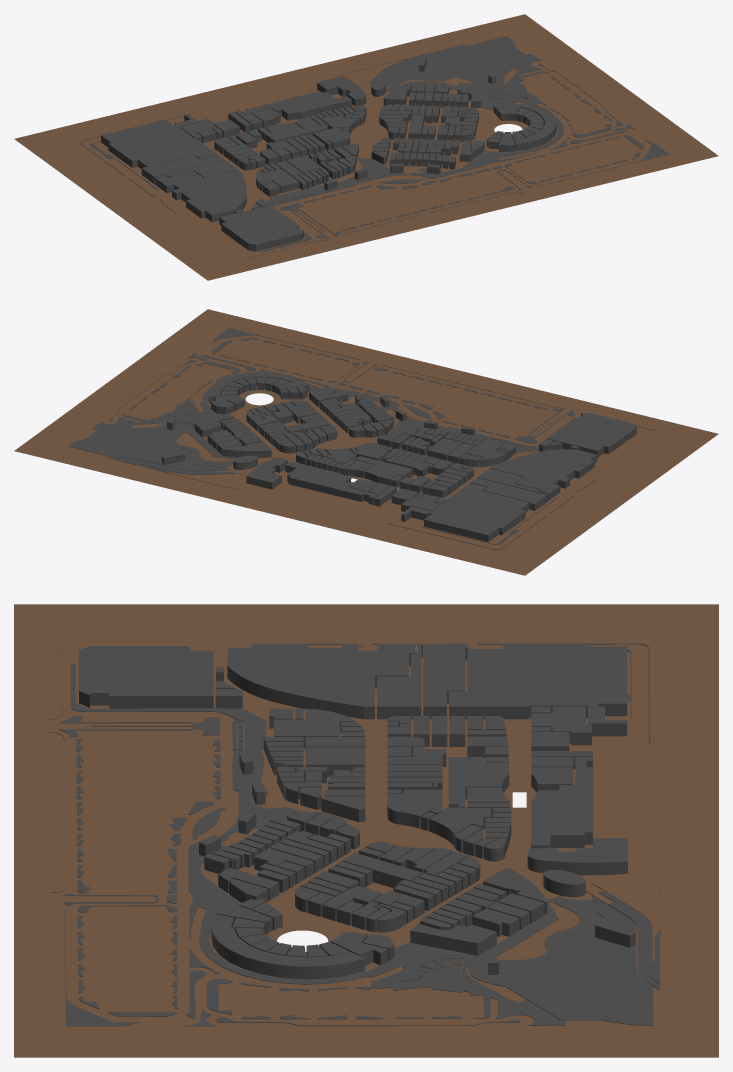
3 views of the same model, one above another, from view 1: azimuth 30°, elevation 25°; view 2: azimuth 150°, elevation 25°; view 3: azimuth 270°, elevation 25° (orthographic). The views are drawn at different scales.
Parts seen in each view (by area): view 1: Rectangle001, Layer:AREA (×2), Object003, Layer:GRANITE PAVING MOD A, Object164, Object167, Object009, Object030, Object166, Object013, Object114, Object156 (+4 smaller); view 2: Rectangle001, Layer:AREA (×2), Object003, Object164, Layer:GRANITE PAVING MOD A, Object167, Object009, Object166, Object013, Object114, Object030, Object156 (+5 smaller); view 3: Rectangle001, Layer:AREA (×2), Object003, Layer:GRANITE PAVING MOD A, Object164, Object167, Object009, Object030, Object013, Object166, Object114, Object165 (+19 smaller).
Part boxes in pixels (left/top/right/bottom): Rectangle001: left=14, top=14, right=718, bottom=280; Layer:AREA (×2): left=80, top=36, right=668, bottom=258; Object003: left=101, top=114, right=217, bottom=168; Layer:GRANITE PAVING MOD A: left=259, top=72, right=536, bottom=252; Object164: left=156, top=169, right=246, bottom=222; Object167: left=219, top=205, right=303, bottom=251; Object009: left=235, top=91, right=351, bottom=120; Object030: left=514, top=102, right=556, bottom=151; Object166: left=141, top=155, right=224, bottom=183; Object013: left=317, top=76, right=366, bottom=105; Object114: left=264, top=122, right=328, bottom=142; Object156: left=256, top=168, right=299, bottom=193; Rectangle001: left=14, top=309, right=718, bottom=575; Layer:AREA (×2): left=68, top=328, right=653, bottom=549; Object003: left=401, top=483, right=529, bottom=542; Object164: left=490, top=449, right=597, bottom=500; Layer:GRANITE PAVING MOD A: left=152, top=378, right=579, bottom=468; Object167: left=546, top=412, right=636, bottom=457; Object009: left=285, top=461, right=377, bottom=504; Object166: left=470, top=478, right=546, bottom=510; Object013: left=246, top=457, right=287, bottom=489; Object114: left=352, top=456, right=412, bottom=485; Object030: left=208, top=371, right=299, bottom=403; Object156: left=467, top=439, right=506, bottom=466; Rectangle001: left=14, top=604, right=718, bottom=1057; Layer:AREA (×2): left=48, top=643, right=661, bottom=1026; Object003: left=449, top=643, right=627, bottom=736; Layer:GRANITE PAVING MOD A: left=71, top=664, right=604, bottom=986; Object164: left=227, top=643, right=415, bottom=719; Object167: left=79, top=646, right=213, bottom=708; Object009: left=530, top=757, right=592, bottom=848; Object030: left=211, top=914, right=365, bottom=979; Object013: left=527, top=838, right=627, bottom=875; Object166: left=423, top=643, right=468, bottom=719; Object114: left=448, top=757, right=509, bottom=807; Object165: left=377, top=643, right=422, bottom=719.
Bounding box in the file's own units: 537 × 7.1 × 353.
